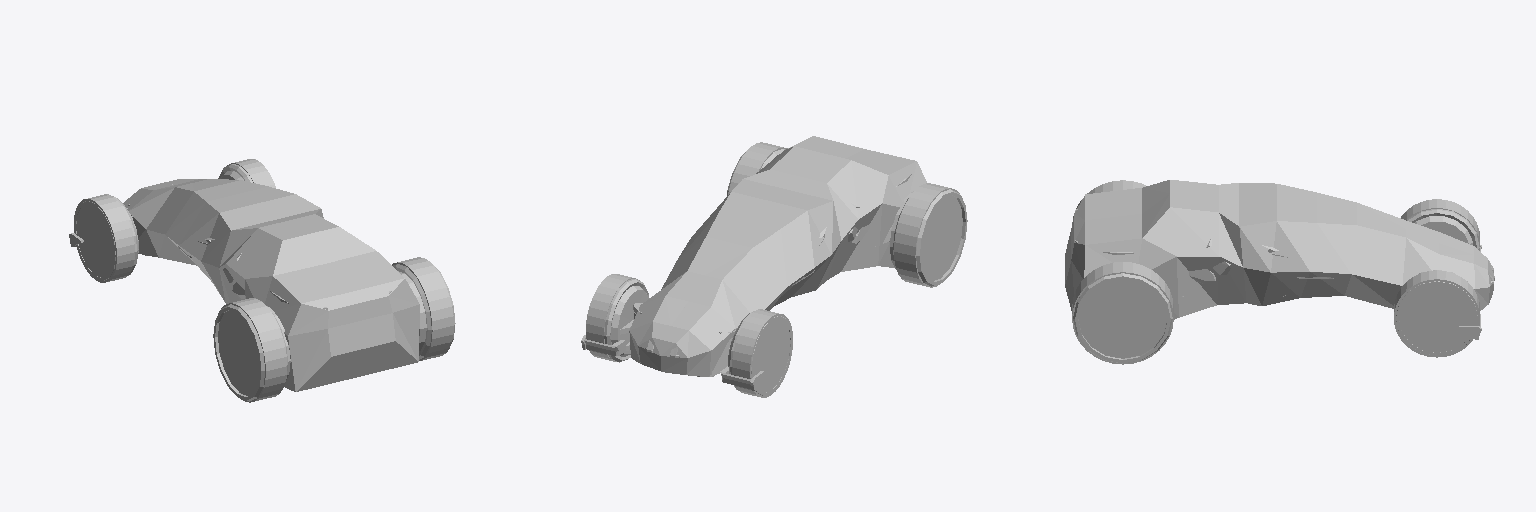
The model's file is Futuristic_Car_2.1_obj.obj.
The picture shows the model from 3 angles: view 1: azimuth 30°, elevation 25°; view 2: azimuth 150°, elevation 25°; view 3: azimuth 270°, elevation 25°; orthographic projection.
Parts seen in each view (by area): view 1: Car_Con_Box_Cube.014, Back_Wheel_Force_1_L_Back_Wheel_Force, Front_Wheel_Force_1_L_Front_Wheel_Force, Back_Wheel_Force_1_R_Back_Wheel_Force.001, Back_Wheel_Mesh_1_L_Cube.002, Back_Wheel_Mesh_1_R_Cube.003, Front_Wheel_Mesh_2_L_Cube.009, Front_Wheel_Force_1_R_Front_Wheel_Force.001; view 2: Car_Con_Box_Cube.014, Back_Wheel_Force_1_L_Back_Wheel_Force, Front_Wheel_Force_1_L_Front_Wheel_Force, Front_Wheel_Mesh_1_R_Cube.005, Front_Wheel_Force_1_R_Front_Wheel_Force.001, Back_Wheel_Mesh_1_L_Cube.002, Back_Wheel_Force_1_R_Back_Wheel_Force.001, Car_Mesh_Cube.012, Front_Steering_Mesh_2_R_Cube.004, Front_Wheel_Mesh_2_L_Cube.009; view 3: Car_Con_Box_Cube.014, Back_Wheel_Force_1_R_Back_Wheel_Force.001, Front_Wheel_Force_1_R_Front_Wheel_Force.001, Back_Wheel_Mesh_1_R_Cube.003, Front_Steering_Mesh_1_L_Cube.010, Front_Wheel_Force_1_L_Front_Wheel_Force, Car_Mesh_Cube.012, Front_Steering_Mesh_2_R_Cube.004, Front_Wheel_Mesh_2_L_Cube.009.
Part boxes in pixels (x1,y1,x2,y2): Car_Con_Box_Cube.014: (123, 179, 419, 391); Back_Wheel_Force_1_L_Back_Wheel_Force: (218, 298, 286, 402); Front_Wheel_Force_1_L_Front_Wheel_Force: (74, 194, 134, 282); Back_Wheel_Force_1_R_Back_Wheel_Force.001: (392, 257, 453, 360); Back_Wheel_Mesh_1_L_Cube.002: (213, 304, 287, 401); Back_Wheel_Mesh_1_R_Cube.003: (393, 264, 455, 359); Front_Wheel_Mesh_2_L_Cube.009: (74, 194, 138, 280); Front_Wheel_Force_1_R_Front_Wheel_Force.001: (227, 159, 275, 187); Car_Con_Box_Cube.014: (629, 136, 926, 376); Back_Wheel_Force_1_L_Back_Wheel_Force: (894, 183, 962, 287); Front_Wheel_Force_1_L_Front_Wheel_Force: (732, 309, 792, 397); Front_Wheel_Mesh_1_R_Cube.005: (581, 286, 648, 356); Front_Wheel_Force_1_R_Front_Wheel_Force.001: (586, 274, 639, 361); Back_Wheel_Mesh_1_L_Cube.002: (893, 189, 967, 286); Back_Wheel_Force_1_R_Back_Wheel_Force.001: (728, 142, 787, 194); Car_Mesh_Cube.012: (633, 174, 911, 376); Front_Steering_Mesh_2_R_Cube.004: (604, 279, 649, 362); Front_Wheel_Mesh_2_L_Cube.009: (729, 309, 791, 395); Car_Con_Box_Cube.014: (1065, 180, 1494, 319); Back_Wheel_Force_1_R_Back_Wheel_Force.001: (1072, 262, 1173, 364); Front_Wheel_Force_1_R_Front_Wheel_Force.001: (1394, 270, 1479, 357); Back_Wheel_Mesh_1_R_Cube.003: (1073, 273, 1172, 363); Front_Steering_Mesh_1_L_Cube.010: (1415, 216, 1481, 251); Front_Wheel_Force_1_L_Front_Wheel_Force: (1401, 199, 1479, 250); Car_Mesh_Cube.012: (1075, 209, 1493, 296); Front_Steering_Mesh_2_R_Cube.004: (1396, 270, 1477, 355); Front_Wheel_Mesh_2_L_Cube.009: (1406, 209, 1479, 249).
Size of the model in its own units: 3.65 by 2.25 by 6.98.